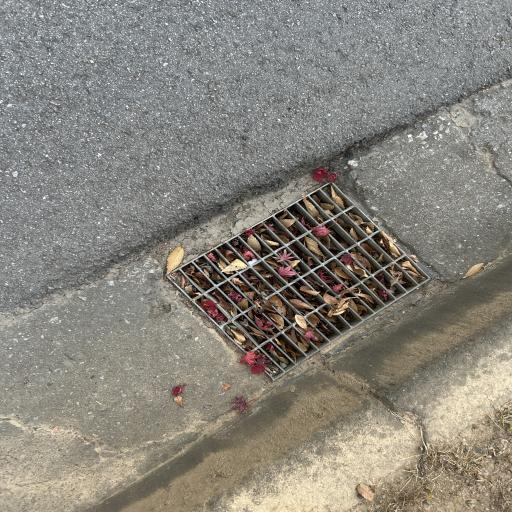debris: (248, 297, 285, 330), (323, 290, 353, 323), (267, 255, 298, 282), (226, 324, 255, 351), (172, 272, 201, 297), (340, 254, 369, 279), (184, 265, 211, 291), (199, 299, 228, 323), (208, 251, 237, 275), (328, 262, 357, 286), (296, 322, 326, 345), (212, 290, 238, 316), (245, 271, 272, 296), (271, 296, 298, 321), (284, 289, 311, 314), (279, 249, 307, 273), (312, 226, 340, 250), (255, 265, 284, 288), (376, 232, 401, 258), (240, 318, 267, 342), (222, 284, 249, 308), (232, 239, 258, 263), (317, 269, 344, 292), (198, 259, 223, 283), (221, 246, 247, 269), (399, 259, 425, 282), (286, 329, 313, 351), (257, 225, 281, 249), (266, 344, 291, 367), (302, 198, 325, 223), (275, 338, 301, 360), (279, 212, 303, 235), (233, 277, 258, 299), (304, 237, 327, 260), (352, 250, 376, 272), (364, 243, 388, 265), (298, 285, 324, 305), (349, 213, 375, 233), (245, 233, 269, 254), (268, 221, 292, 242), (377, 274, 402, 294), (313, 196, 338, 216), (327, 186, 349, 208), (389, 266, 412, 287), (366, 281, 390, 301), (310, 314, 333, 334), (249, 351, 273, 370), (355, 288, 378, 307), (307, 276, 327, 292), (297, 215, 314, 228), (302, 256, 317, 267), (348, 228, 361, 239)
drain: (165, 181, 432, 382)
